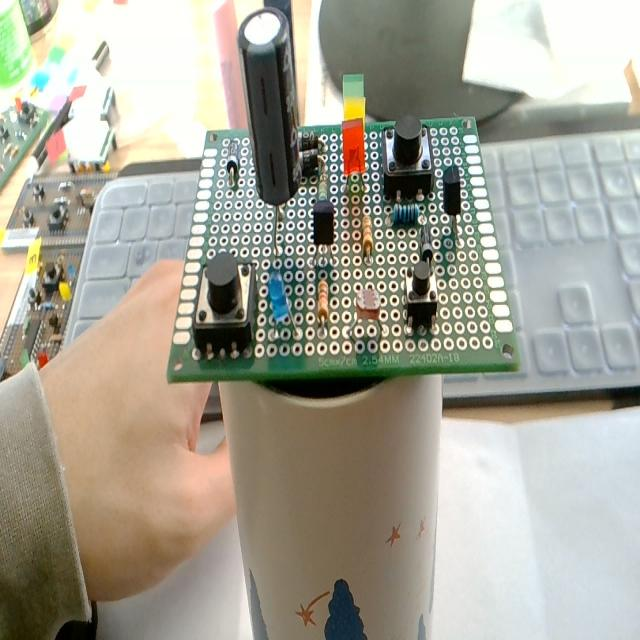Electrolytic capacitor: (235, 9, 307, 254)
cds: (349, 286, 397, 340)
diode: (291, 151, 335, 173), (291, 127, 331, 149), (226, 139, 240, 184), (421, 222, 434, 264)
led: (264, 275, 295, 344), (342, 118, 366, 176), (337, 70, 378, 102), (338, 96, 368, 135)
resistor: (393, 202, 418, 226), (317, 280, 329, 324), (362, 214, 372, 256)
switch: (193, 251, 256, 356), (382, 116, 435, 202), (405, 264, 438, 334)
transistor: (312, 199, 336, 268), (443, 166, 462, 243)
